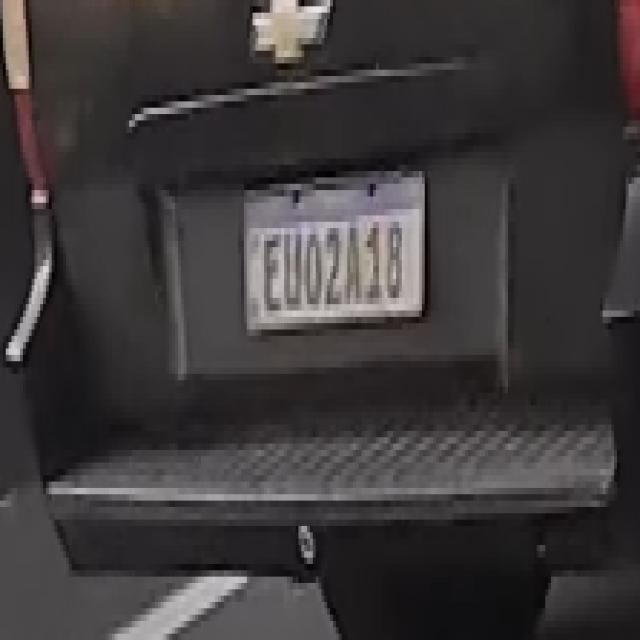Placa_mercosul_carro: (244, 173, 428, 324)
